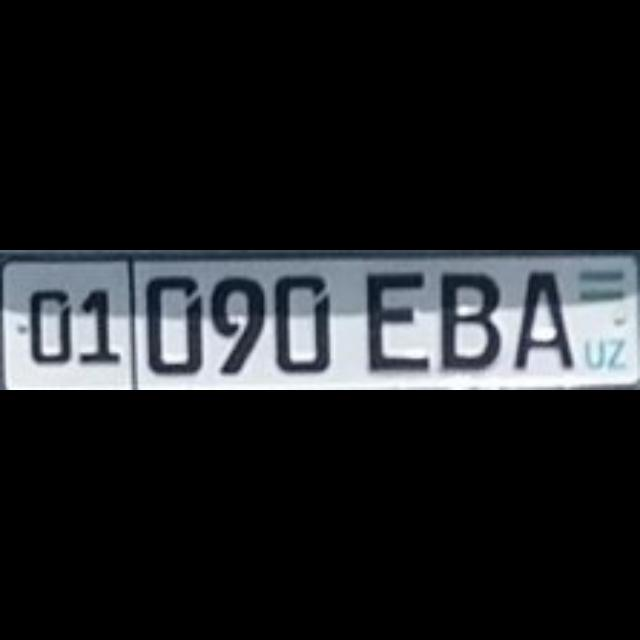0: (140, 273, 198, 371), (272, 270, 328, 368), (26, 284, 66, 360)
1: (75, 284, 115, 360)
9: (206, 273, 264, 373)
A: (508, 267, 568, 365)
B: (439, 270, 499, 368)
E: (362, 267, 424, 367)
